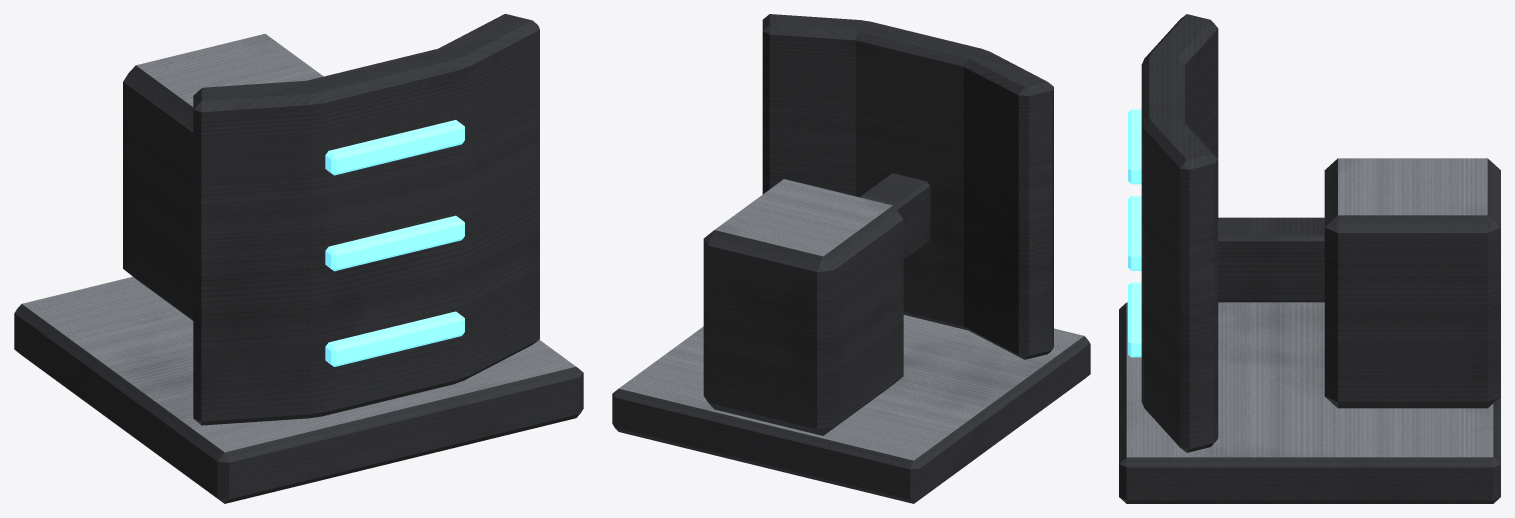
File: R4X_DirectionalShield_LOD1.glb
The picture shows the model from 3 angles, left to right: view 1: azimuth 30°, elevation 25°; view 2: azimuth 150°, elevation 25°; view 3: azimuth 270°, elevation 25°; orthographic projection. The views are drawn at different scales.
Visible parts, largest first — view 1: R4X_DirectionalShield_LOD1; view 2: R4X_DirectionalShield_LOD1; view 3: R4X_DirectionalShield_LOD1.
Part boxes in pixels (x1,y1,x2,y2): R4X_DirectionalShield_LOD1: (14,14,583,503); R4X_DirectionalShield_LOD1: (612,14,1090,503); R4X_DirectionalShield_LOD1: (1119,14,1500,503).
Size of the model in its own units: 0.52 by 0.51 by 0.52.
3 materials, 2 textured.
